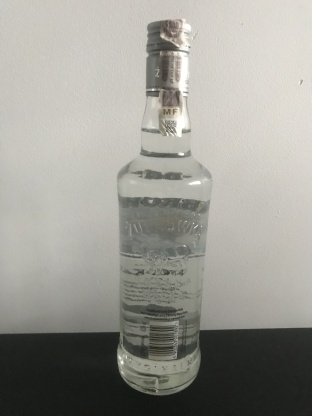nakretka: (144, 18, 192, 97)
